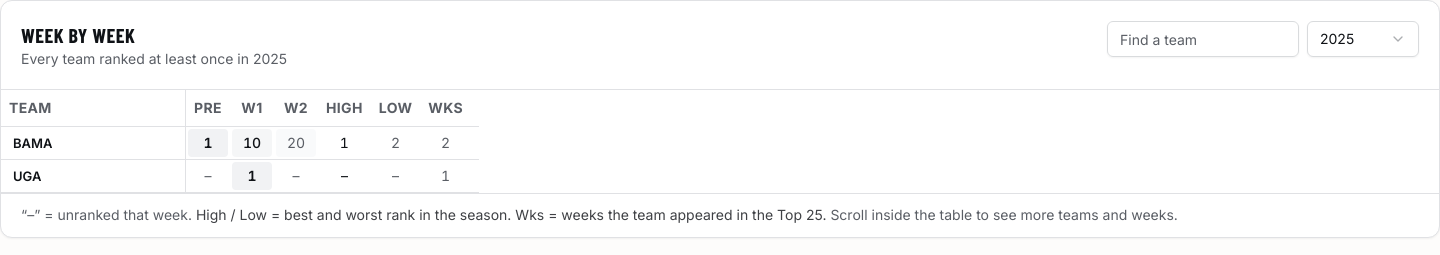
Test: RankingsHistoryWeekMatrix › renders week headers, ranks, and filters teams by search
Expected: the column heading "Pre" is shown, left=186, top=90, right=230, bottom=126
Expected: the text titled "BAMA · Preseason: #1" next to "BAMA" is shown, left=204, top=134, right=213, bottom=151
Step 1. Type "georgia" into the search field labelled "Find a team" → (1203,39), box left=1107, top=21, right=1299, bottom=57
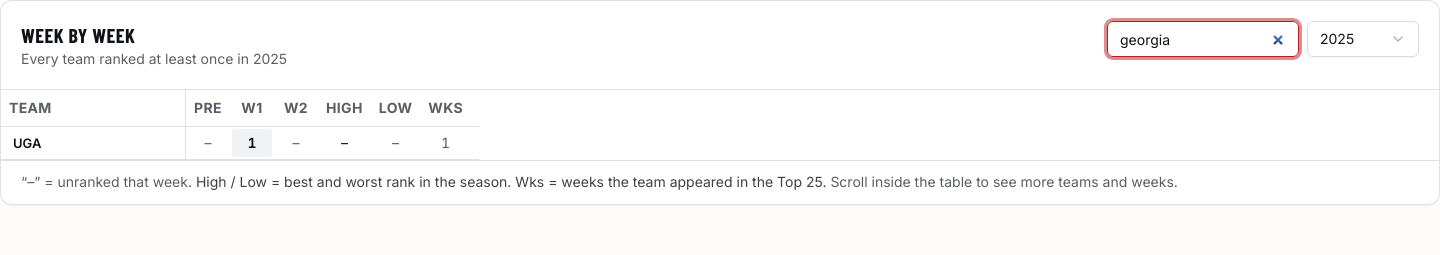
Expected: the link "UGA" is shown, left=13, top=134, right=41, bottom=152
Expected: the link "BAMA" is gone
